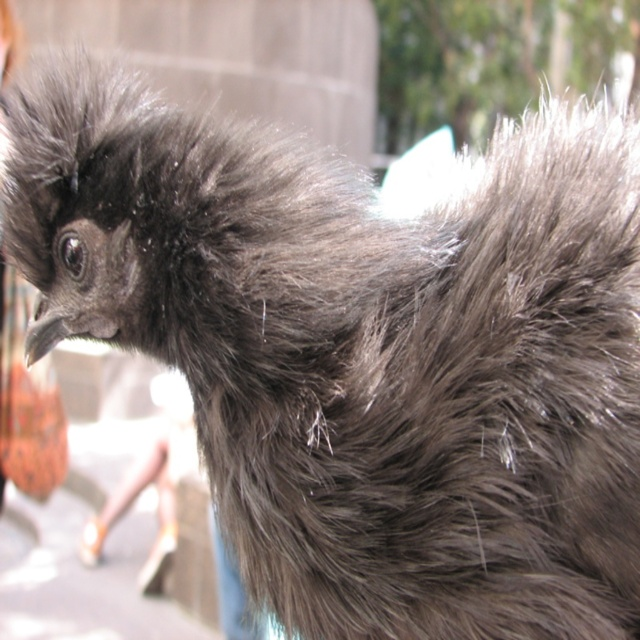Chicken: (17, 59, 609, 635)
